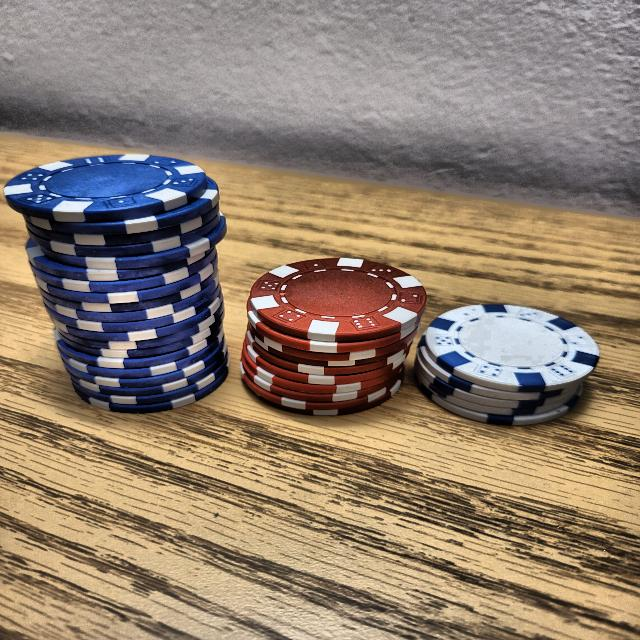Chip: (14, 133, 255, 432), (234, 230, 431, 436), (399, 281, 609, 444)
